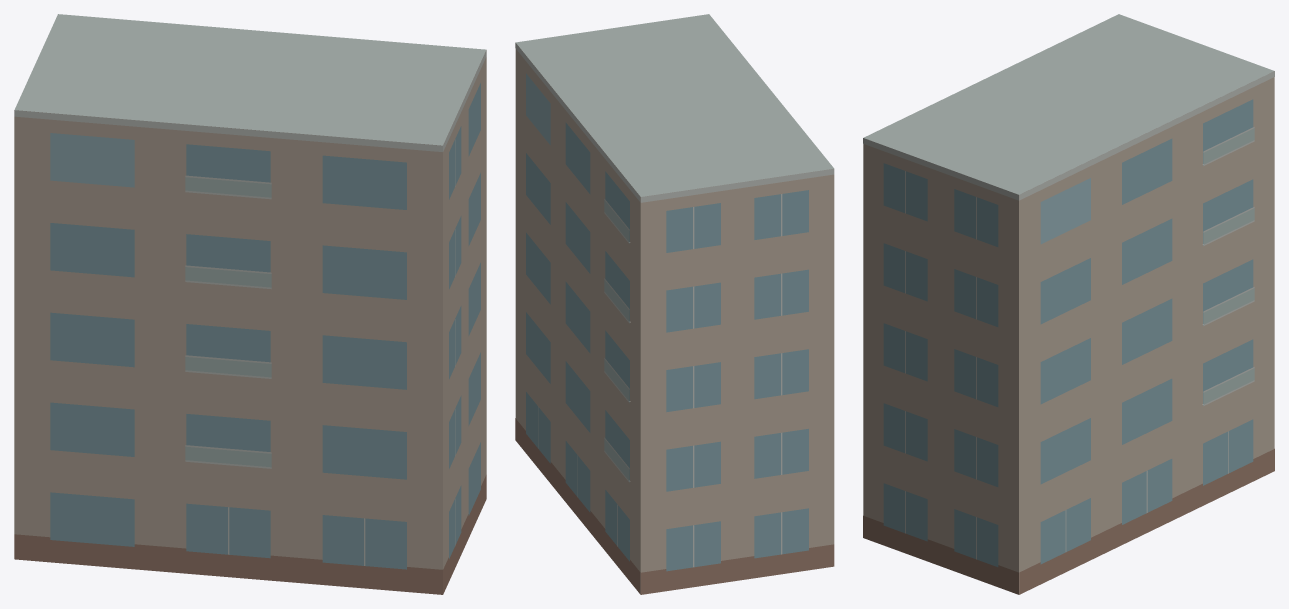
The model's file is survey-upis-32941592.glb.
3 renders of one model, left to right at view 1: azimuth 30°, elevation 25°; view 2: azimuth 150°, elevation 25°; view 3: azimuth 270°, elevation 25°, orthographic. The views are drawn at different scales.
Visible parts, largest first — view 1: survey-upis-32941592.tmp; view 2: survey-upis-32941592.tmp; view 3: survey-upis-32941592.tmp.
Part boxes in pixels (x1=…): survey-upis-32941592.tmp: x1=14, y1=14, x2=486, y2=594; survey-upis-32941592.tmp: x1=515, y1=14, x2=834, y2=594; survey-upis-32941592.tmp: x1=863, y1=14, x2=1274, y2=594.
Size of the model in its own units: 16.2 by 16.7 by 15.58.
